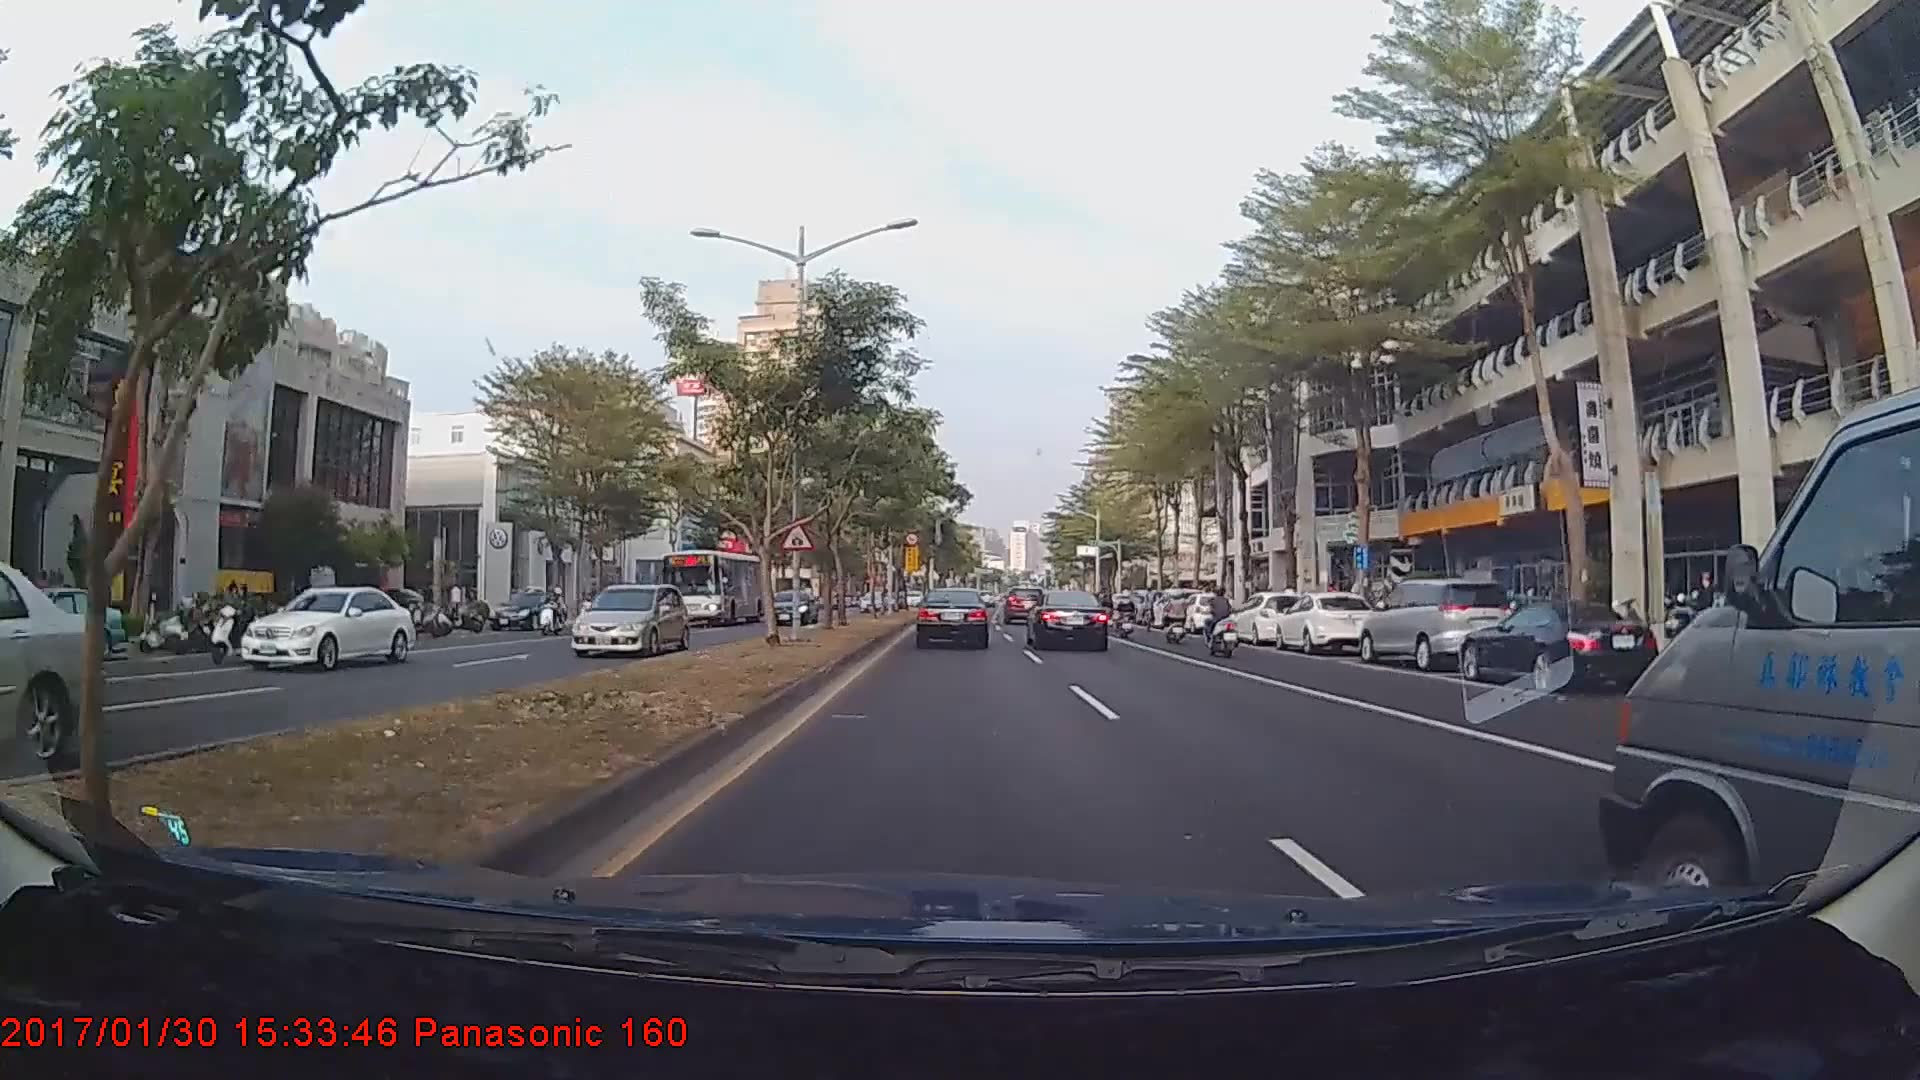rider: (207, 578, 269, 662), (1199, 582, 1248, 660), (1150, 590, 1201, 646), (537, 586, 567, 635), (1112, 586, 1138, 639)
vehicle: (1612, 441, 1911, 891), (1458, 602, 1658, 693), (237, 583, 419, 674), (1360, 571, 1522, 671), (569, 581, 688, 658), (0, 585, 124, 657), (658, 548, 766, 627), (1273, 588, 1377, 651), (1027, 588, 1110, 653), (1227, 588, 1310, 645), (916, 586, 990, 649), (1175, 591, 1234, 632), (764, 589, 814, 624), (1005, 581, 1046, 620)
